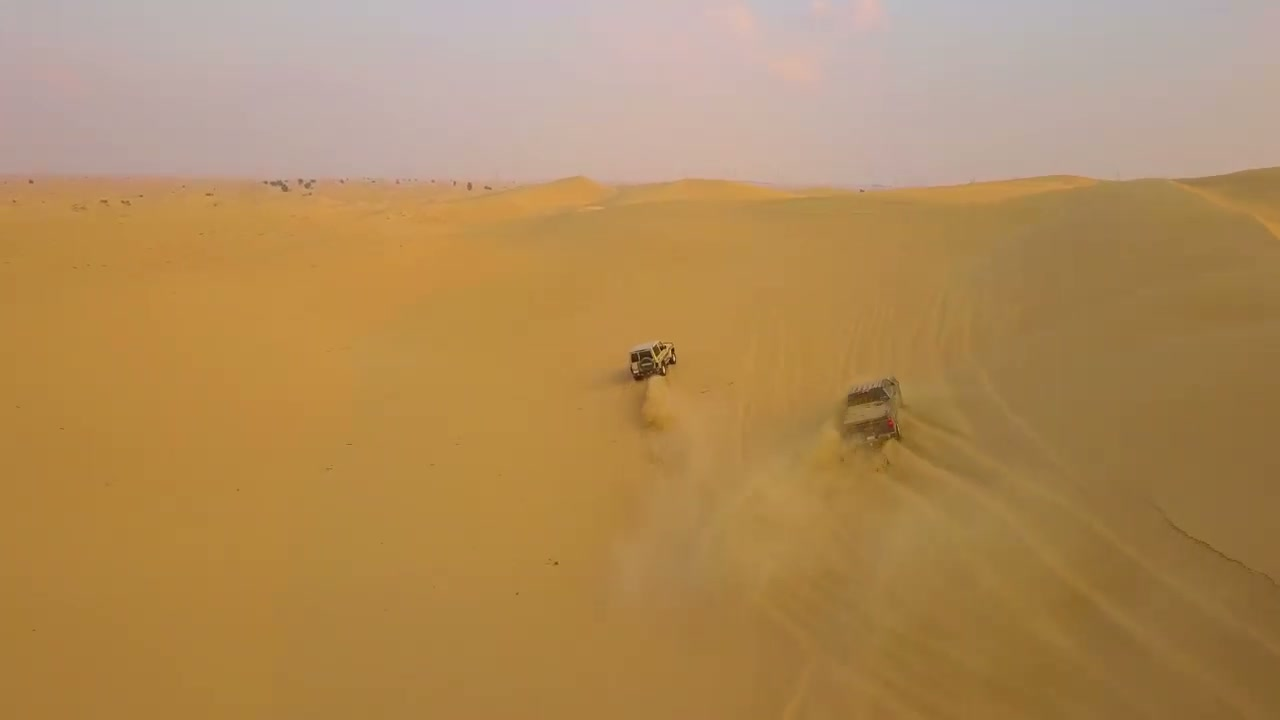vehicle_track: (873, 277, 1279, 715)
